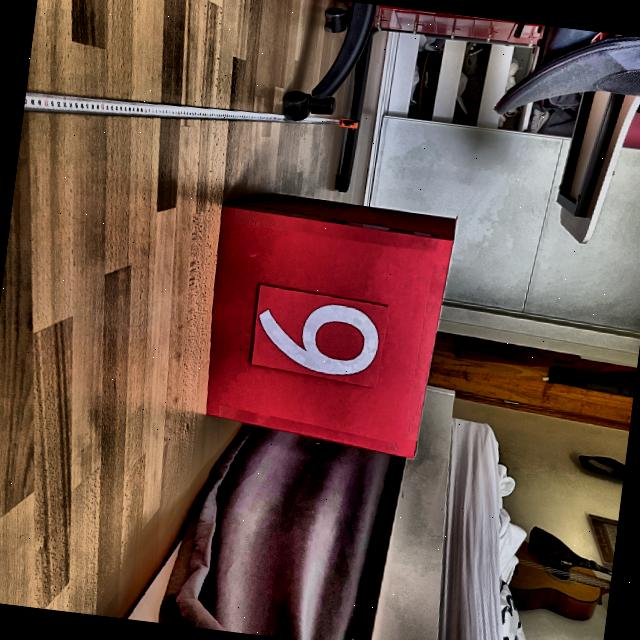nine: (250, 292, 384, 382)
red box: (195, 182, 457, 460)
